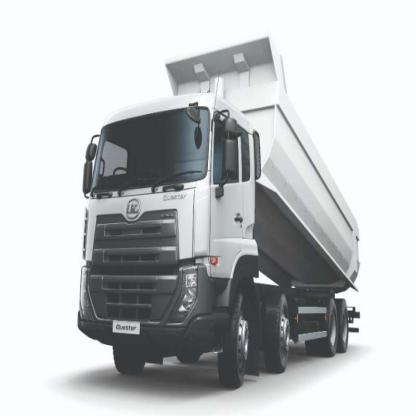dump_truck: (67, 32, 363, 387)
